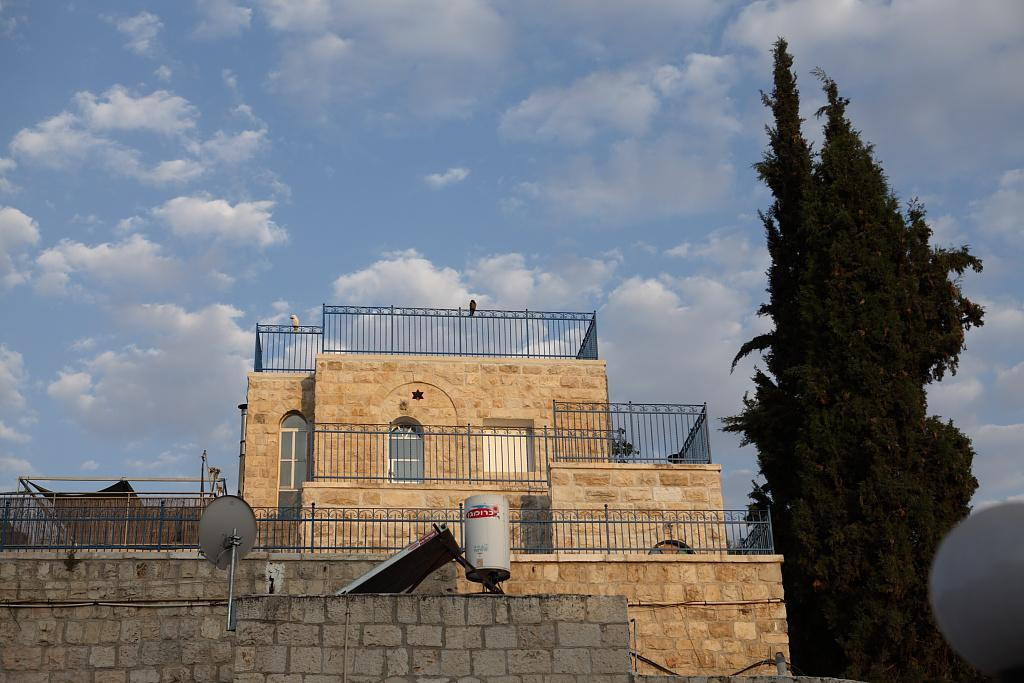Tree: (720, 61, 986, 646)
